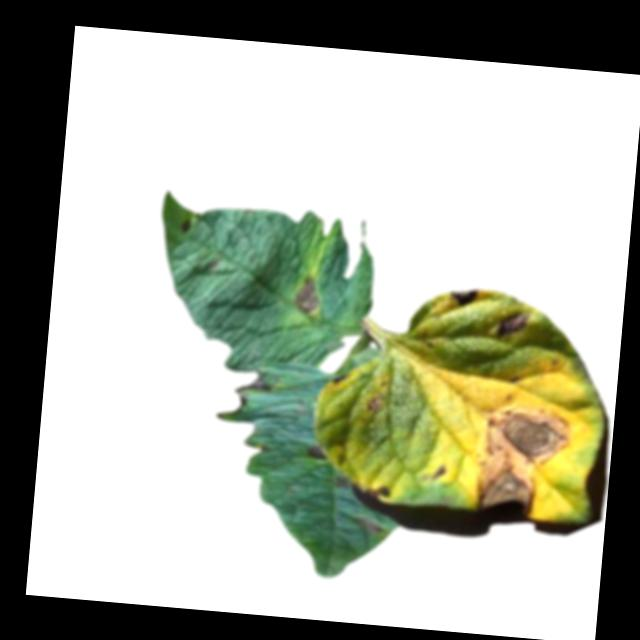Early_blight: (472, 400, 574, 518), (294, 275, 322, 317), (495, 309, 528, 340), (448, 283, 479, 311), (366, 482, 392, 500), (364, 393, 383, 412), (307, 444, 328, 460), (334, 473, 350, 488), (180, 217, 192, 234)
